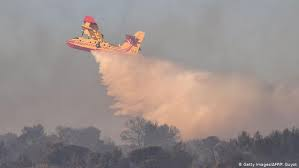smoke: (96, 50, 291, 142)
